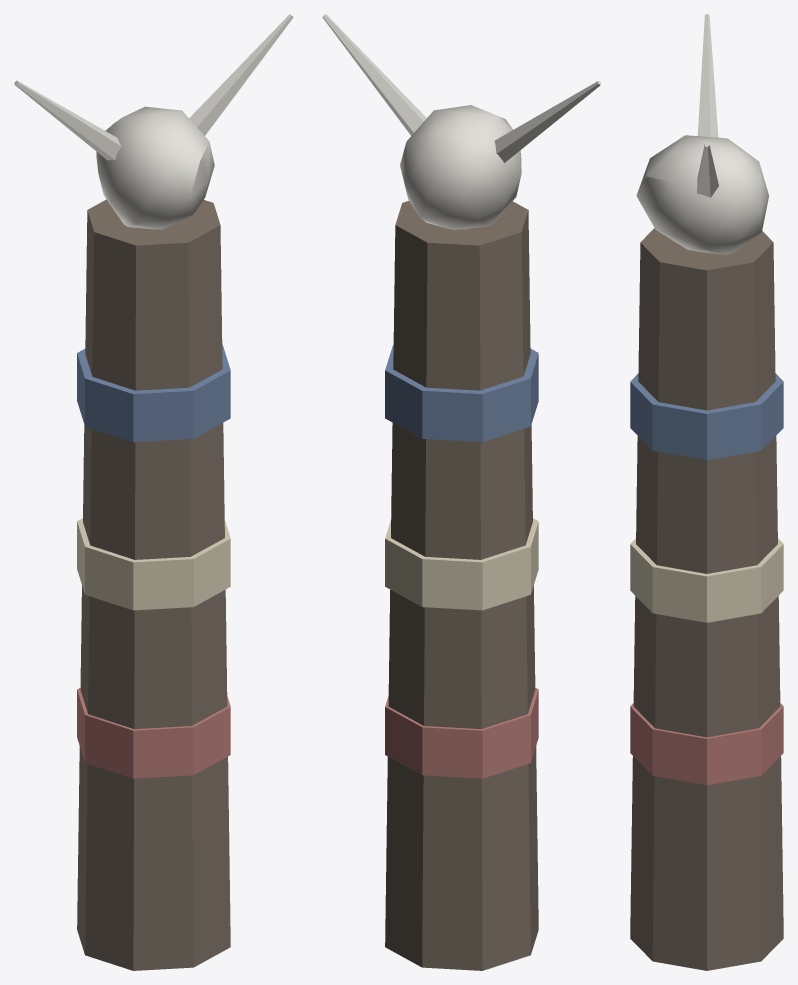
The model's file is totem.gltf.
3 renders of one model, left to right at view 1: azimuth 30°, elevation 25°; view 2: azimuth 150°, elevation 25°; view 3: azimuth 270°, elevation 25°, orthographic. The views are drawn at different scales.
Parts seen in each view (by area): view 1: Body; view 2: Body; view 3: Body.
Boxes of the visible parts, box(x1,y1,x2,y2) form: Body: box(14, 14, 293, 970); Body: box(322, 14, 601, 970); Body: box(630, 14, 783, 970).
Bounding box in the file's own units: 1.21 × 3.71 × 0.6.
